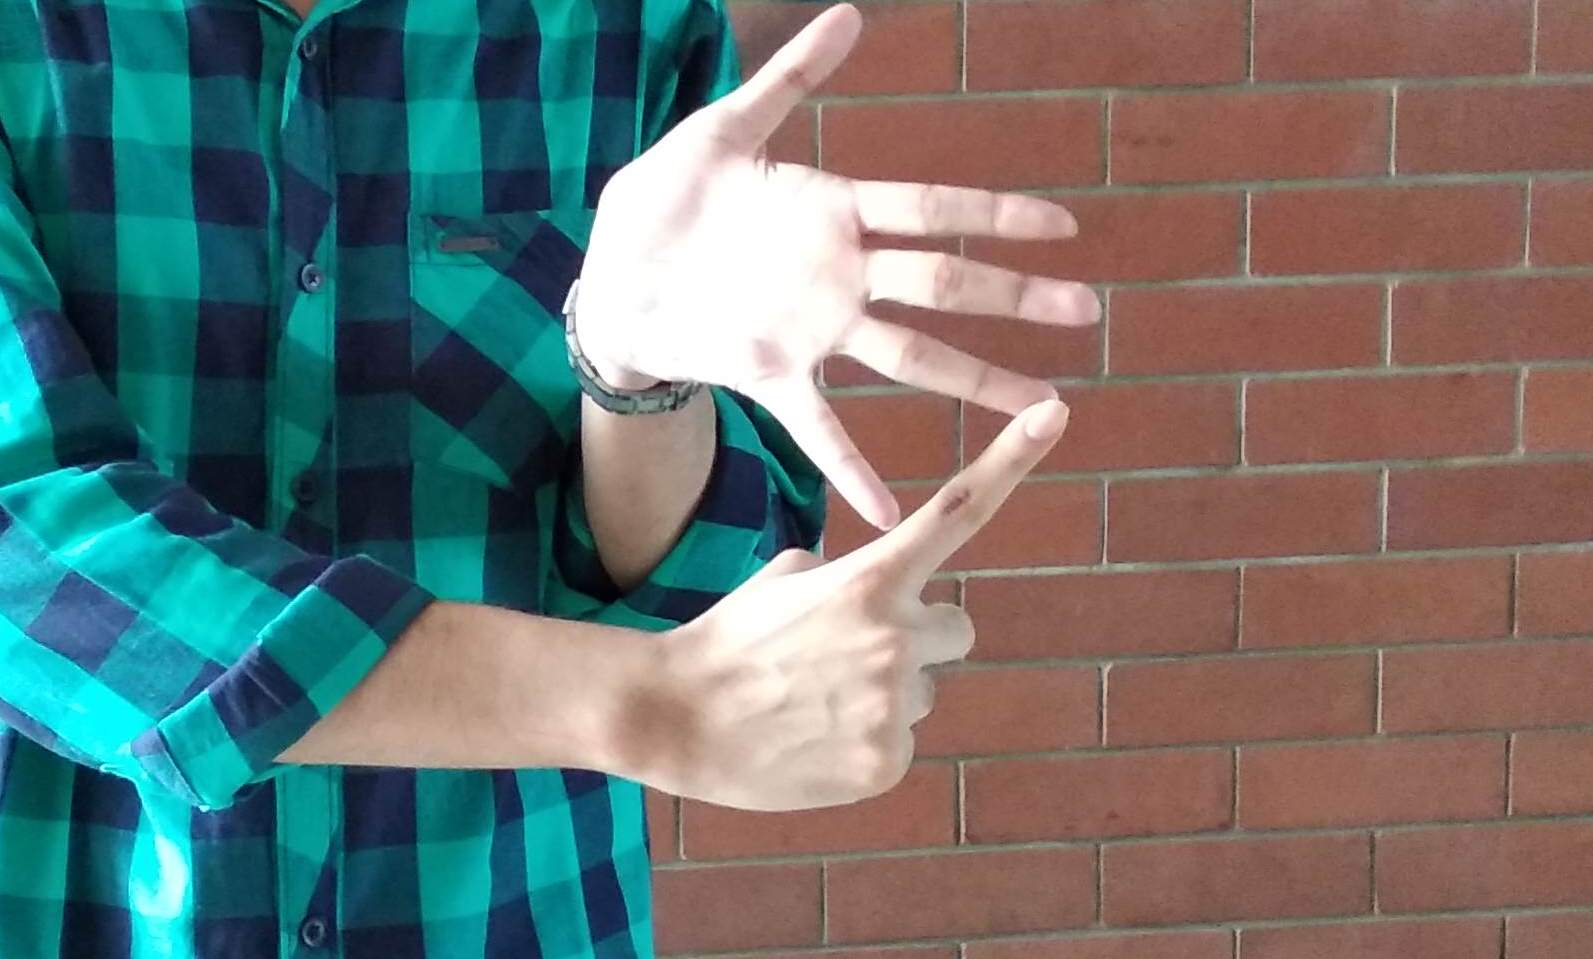e: (600, 33, 1126, 791)
